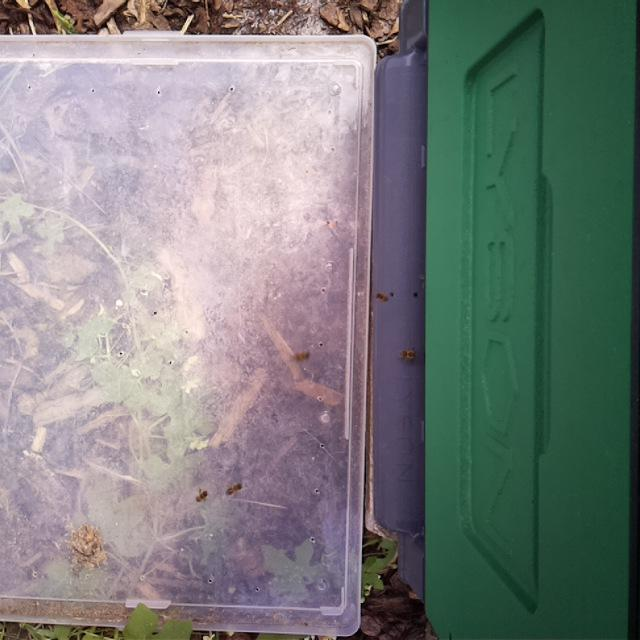worker-bee: (396, 342, 422, 365), (188, 485, 214, 508), (287, 348, 315, 367), (222, 481, 250, 500), (372, 290, 394, 309)
